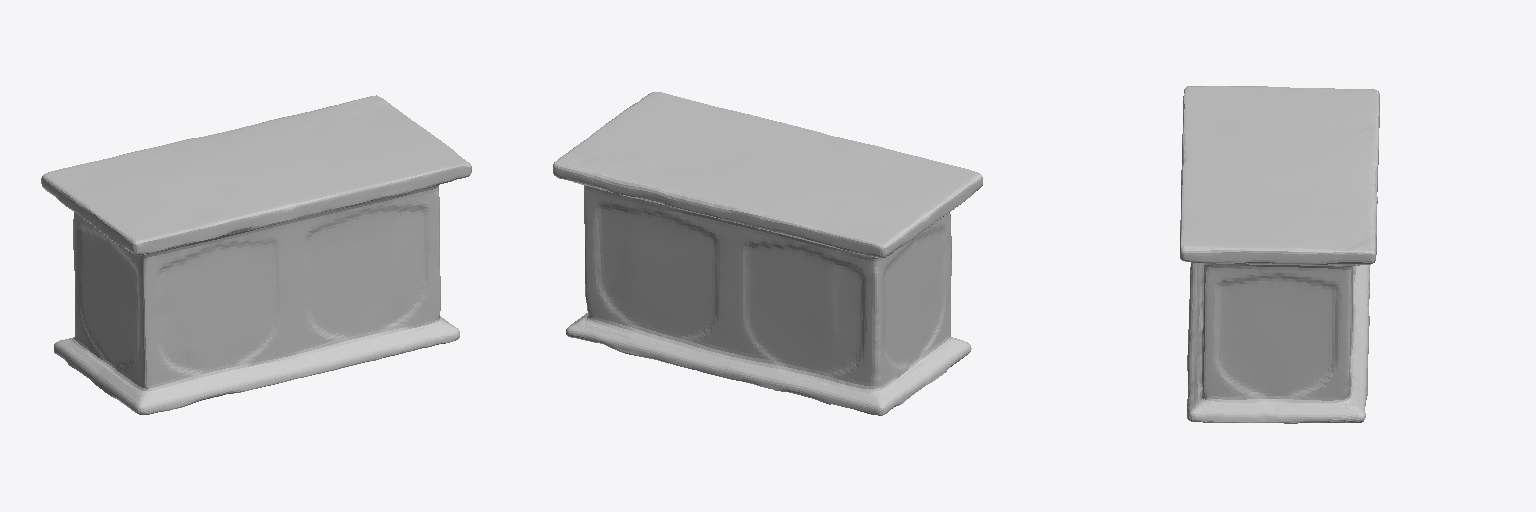
Rendered from Tomb of Kim Yu-sin_Asset_003.obj.
3 views of the same model, side by side, from view 1: azimuth 30°, elevation 25°; view 2: azimuth 150°, elevation 25°; view 3: azimuth 270°, elevation 25° (orthographic).
Bounding box in the file's own units: 2.47 × 1.26 × 1.27.